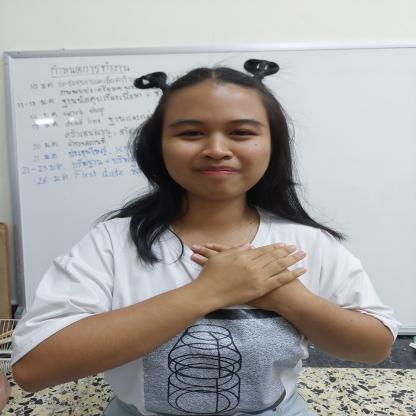Love: (164, 230, 324, 319)
